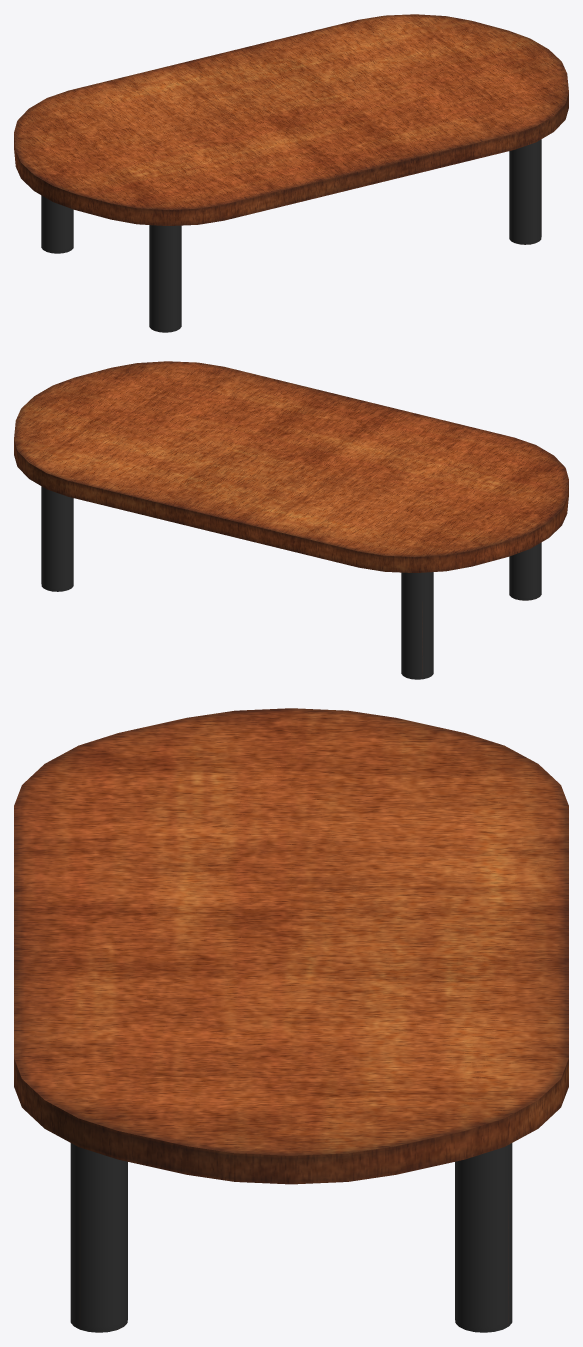
File: DiningTable.fbx
3 views of the same model, one above another, from view 1: azimuth 30°, elevation 25°; view 2: azimuth 150°, elevation 25°; view 3: azimuth 270°, elevation 25° (orthographic). The views are drawn at different scales.
Parts seen in each view (by area): view 1: Dining Table; view 2: Dining Table; view 3: Dining Table.
Part boxes in pixels (x1,y1,x2,y2): Dining Table: [14, 14, 568, 332]; Dining Table: [14, 361, 568, 679]; Dining Table: [14, 708, 568, 1332].
Size of the model in its own units: 3.82 by 2 by 0.9227.
